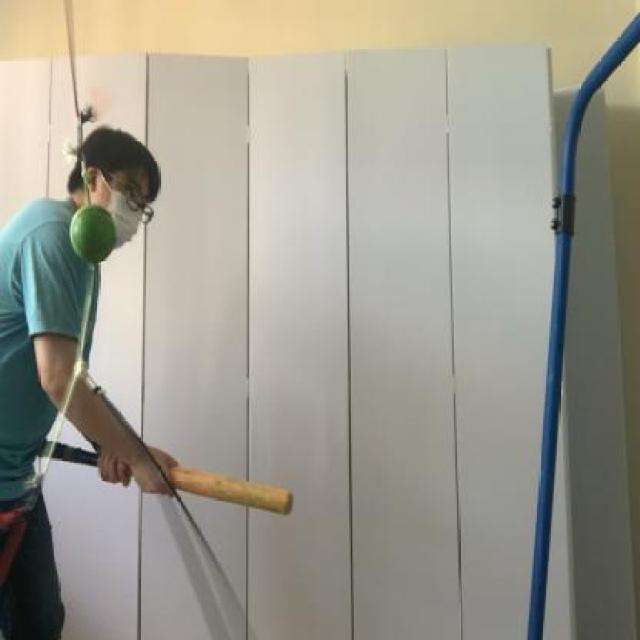baseball: (70, 197, 119, 263)
